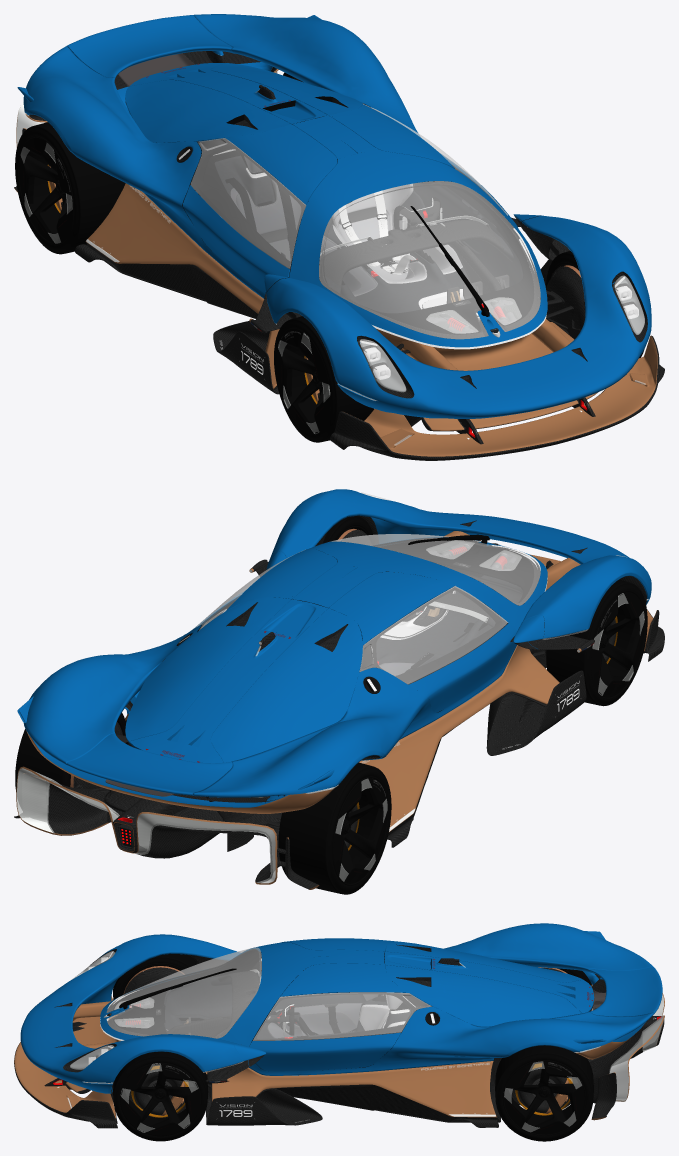
3 renders of one model, top to bottom at view 1: azimuth 30°, elevation 25°; view 2: azimuth 150°, elevation 25°; view 3: azimuth 270°, elevation 25°, orthographic. The views are drawn at different scales.
Parts seen in each view (by area): view 1: Object_33, Object_6, Object_36, Object_14, Object_5, Object_13, Object_41, Object_71, Object_60, Object_65; view 2: Object_33, Object_36, Object_6, Object_5, Object_14, Object_13, Object_41, Object_65; view 3: Object_33, Object_6, Object_36, Object_14, Object_5, Object_13, Object_41, Object_71, Object_68.
Boxes of the visible parts, <box> form: Object_33: <box>17,14,651,418</box>; Object_6: <box>16,71,645,445</box>; Object_36: <box>14,51,664,460</box>; Object_14: <box>14,53,657,456</box>; Object_5: <box>15,72,644,442</box>; Object_13: <box>17,75,579,435</box>; Object_41: <box>214,155,523,313</box>; Object_71: <box>230,156,462,296</box>; Object_60: <box>360,276,638,379</box>; Object_65: <box>418,274,509,320</box>; Object_33: <box>17,489,651,807</box>; Object_36: <box>14,515,664,889</box>; Object_6: <box>17,492,644,883</box>; Object_5: <box>15,516,647,894</box>; Object_14: <box>16,531,656,889</box>; Object_13: <box>69,524,648,885</box>; Object_41: <box>376,572,523,670</box>; Object_65: <box>380,591,455,639</box>; Object_33: <box>20,923,662,1093</box>; Object_6: <box>67,947,664,1132</box>; Object_36: <box>14,944,664,1128</box>; Object_14: <box>14,984,664,1120</box>; Object_5: <box>70,950,593,1141</box>; Object_13: <box>82,963,600,1136</box>; Object_41: <box>164,970,412,1044</box>; Object_71: <box>267,994,402,1085</box>; Object_68: <box>57,959,656,1122</box>.
Size of the model in its own units: 2.12 by 1.05 by 4.81.
Materials: 25 (25 with a texture image).
